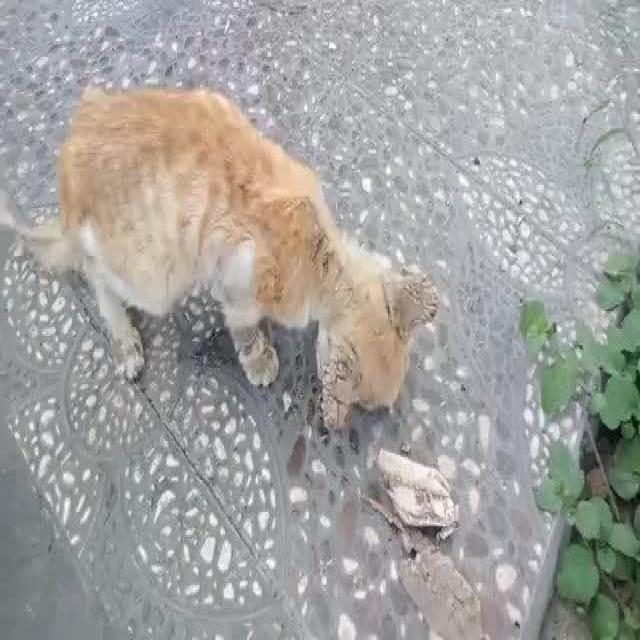ghe: (375, 264, 438, 336), (312, 344, 369, 422)
